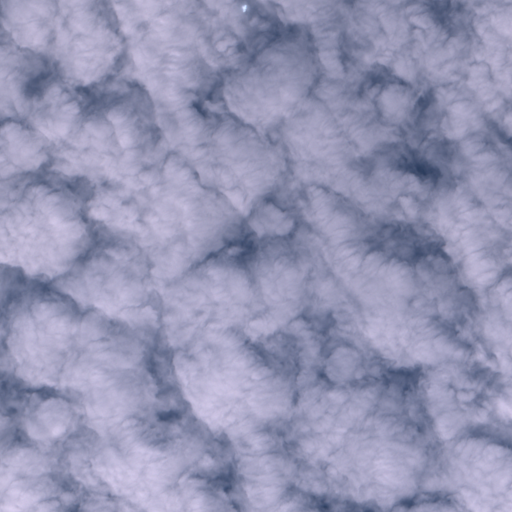Iceberg: (242, 5, 246, 11)
